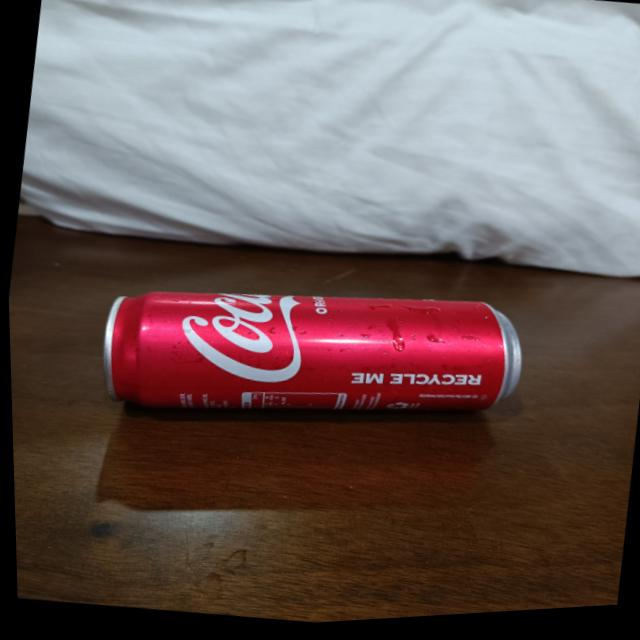coke: (95, 251, 527, 464)
